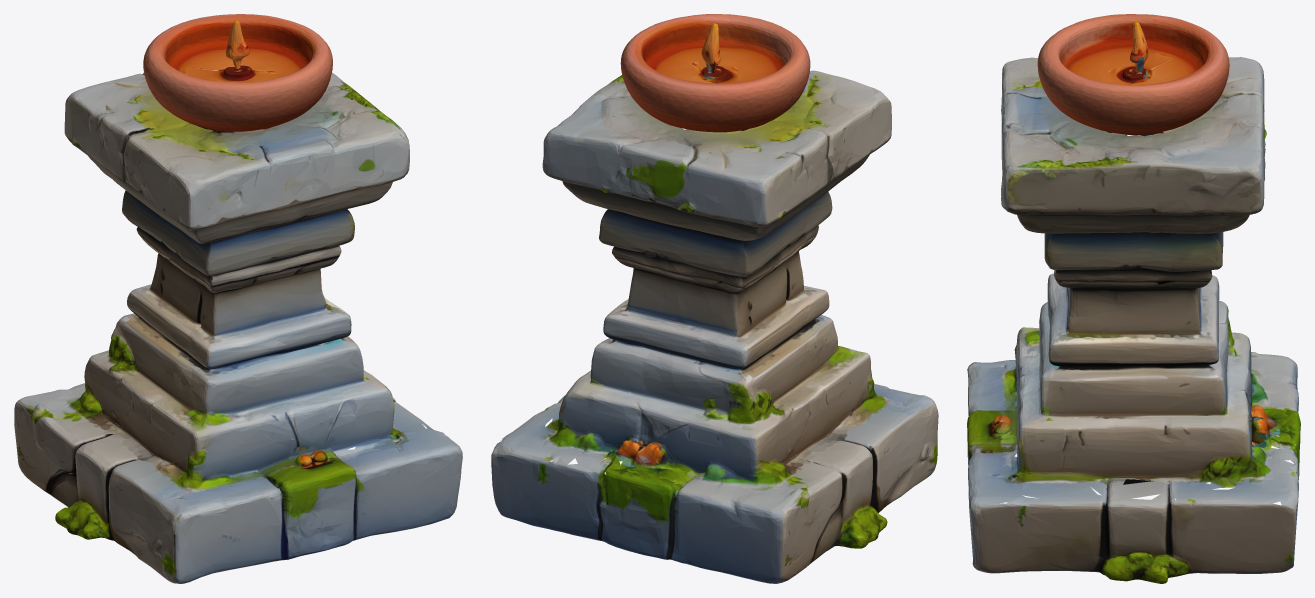
File: terracotta-oil-lamp-shrine-pillar-optimized.glb
3 renders of one model, left to right at view 1: azimuth 30°, elevation 25°; view 2: azimuth 150°, elevation 25°; view 3: azimuth 270°, elevation 25°, orthographic.
Parts seen in each view (by area): view 1: 00de650a-8735-4d83-869d-862eff366f5c_texturing.obj; view 2: 00de650a-8735-4d83-869d-862eff366f5c_texturing.obj; view 3: 00de650a-8735-4d83-869d-862eff366f5c_texturing.obj.
Part boxes in pixels (x1,y1,x2,y2): 00de650a-8735-4d83-869d-862eff366f5c_texturing.obj: [14, 14, 462, 583]; 00de650a-8735-4d83-869d-862eff366f5c_texturing.obj: [491, 14, 938, 583]; 00de650a-8735-4d83-869d-862eff366f5c_texturing.obj: [967, 14, 1300, 583].
Size of the model in its own units: 1.09 by 1.5 by 0.9371.
Materials: 1 (1 with a texture image).
